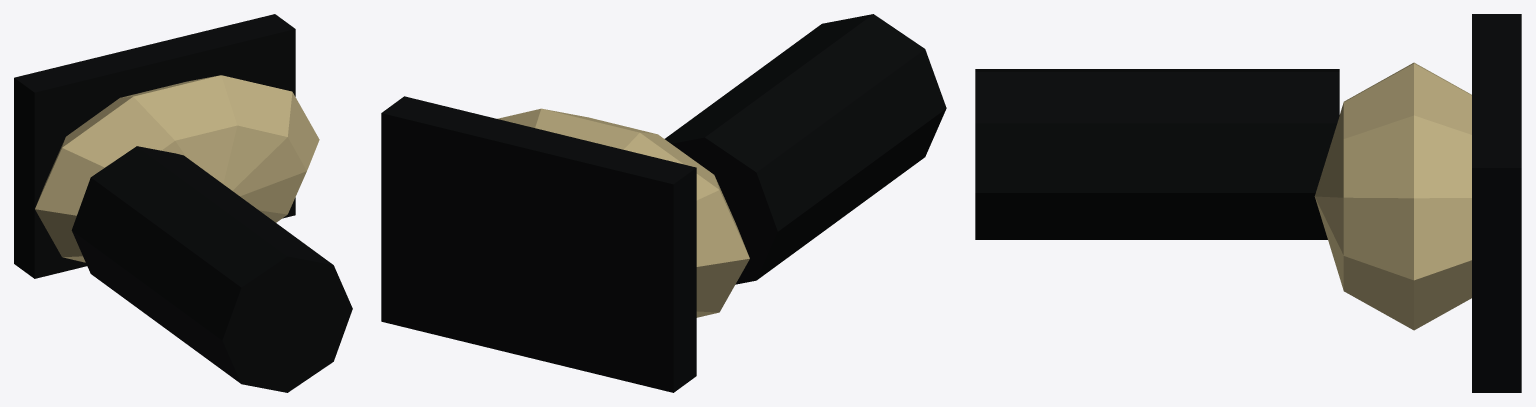
File: Resident0RightLeg.obj
The picture shows the model from 3 angles, left to right: view 1: azimuth 30°, elevation 25°; view 2: azimuth 150°, elevation 25°; view 3: azimuth 270°, elevation 25°; orthographic projection. The views are drawn at different scales.
Parts seen in each view (by area): view 1: Resident0RightLeg; view 2: Resident0RightLeg; view 3: Resident0RightLeg.
Part boxes in pixels (x1,y1,x2,y2): Resident0RightLeg: (14, 14, 352, 392); Resident0RightLeg: (381, 14, 946, 392); Resident0RightLeg: (975, 14, 1521, 392).
Bounding box in the file's own units: 48 × 30 × 66.
